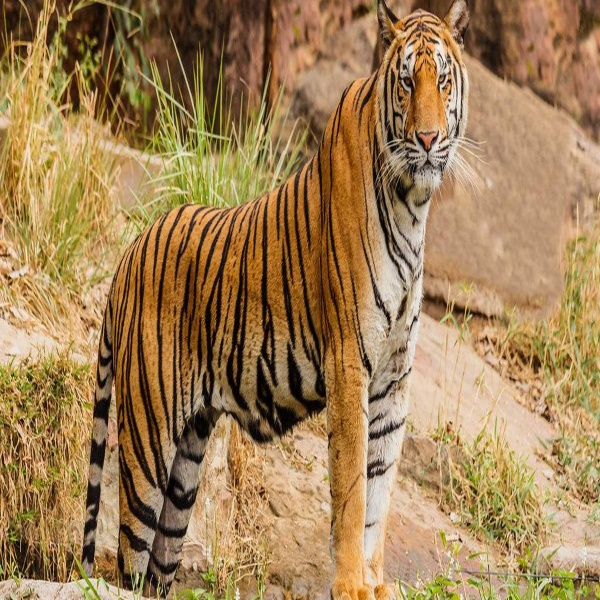Tiger: (79, 2, 476, 598)
